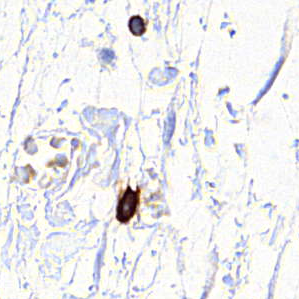Lymphocyte: (124, 9, 151, 38)
